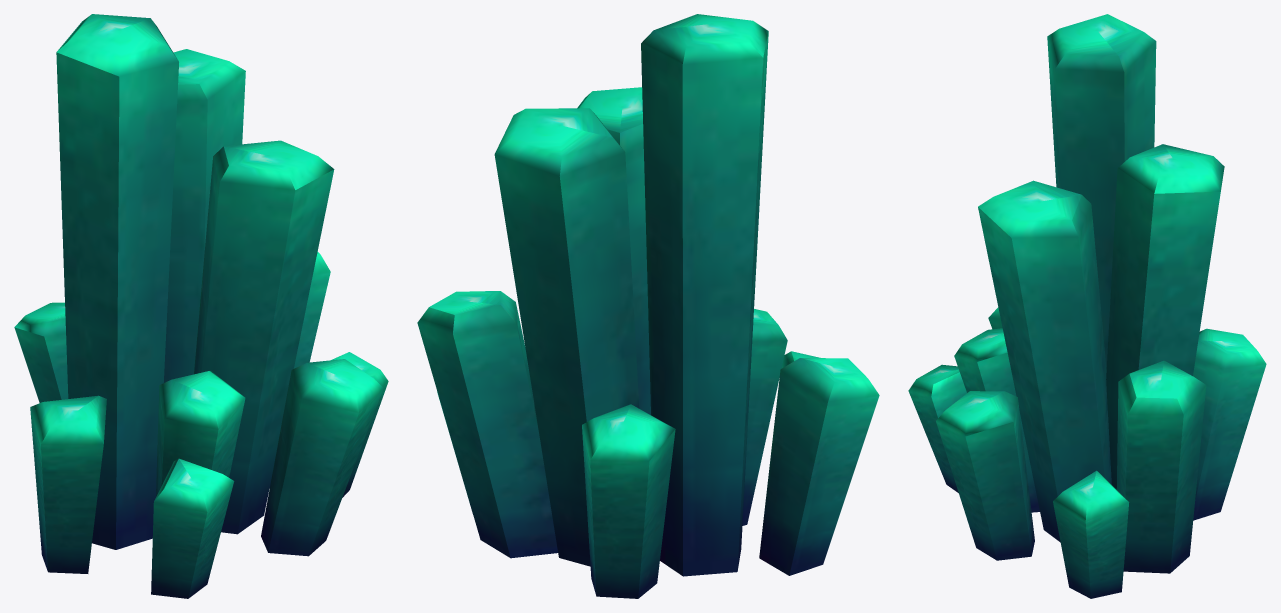
The model's file is map_113_zhibei_4.fbx.
3 renders of one model, left to right at view 1: azimuth 30°, elevation 25°; view 2: azimuth 150°, elevation 25°; view 3: azimuth 270°, elevation 25°, orthographic. The views are drawn at different scales.
Parts seen in each view (by area): view 1: map_113_zhibei_4; view 2: map_113_zhibei_4; view 3: map_113_zhibei_4.
Boxes of the visible parts, box(x1,y1,x2,y2) form: map_113_zhibei_4: box(14, 14, 388, 598); map_113_zhibei_4: box(417, 14, 879, 598); map_113_zhibei_4: box(908, 14, 1266, 598).
Bounding box in the file's own units: 0.6393 × 0.8203 × 0.5688.
